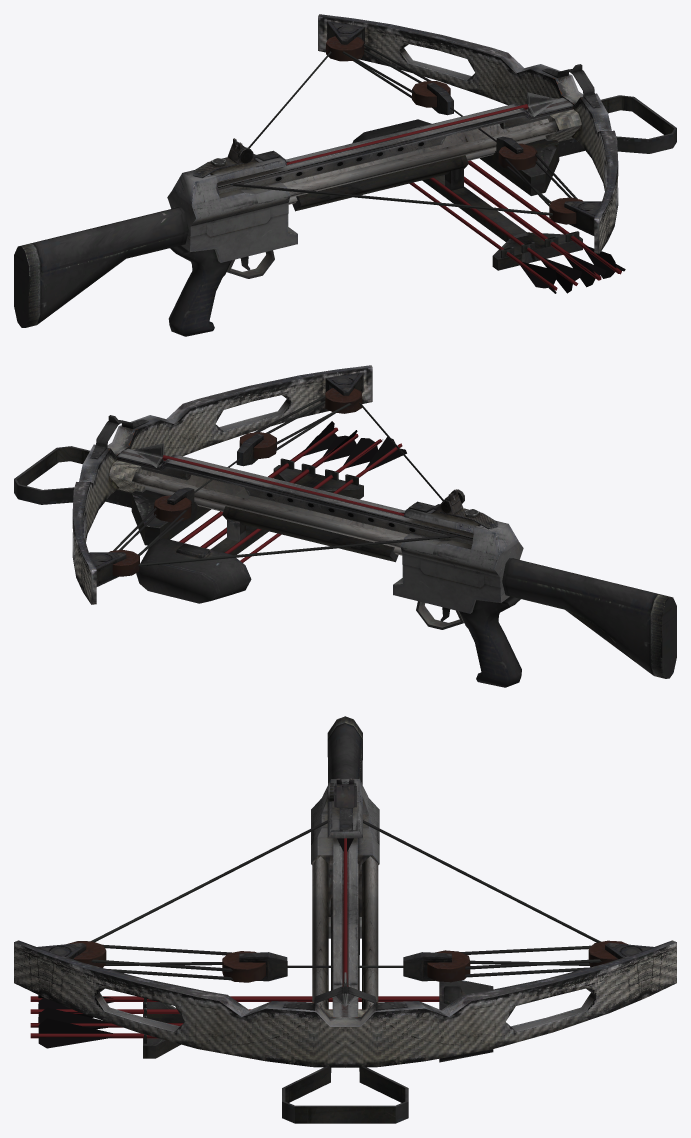
File: t5_weapon_mp_crossbow_stow_LOD0.obj
3 views of the same model, one above another, from view 1: azimuth 30°, elevation 25°; view 2: azimuth 150°, elevation 25°; view 3: azimuth 270°, elevation 25° (orthographic). The views are drawn at different scales.
Parts seen in each view (by area): view 1: mtl_t5_weapon_crossbow; view 2: mtl_t5_weapon_crossbow; view 3: mtl_t5_weapon_crossbow.
Boxes of the visible parts, x1,y1,x2,y2 form: mtl_t5_weapon_crossbow: [14, 14, 676, 336]; mtl_t5_weapon_crossbow: [14, 365, 676, 687]; mtl_t5_weapon_crossbow: [14, 716, 676, 1123].
Size of the model in its own units: 88.79 by 23.85 by 67.92.
